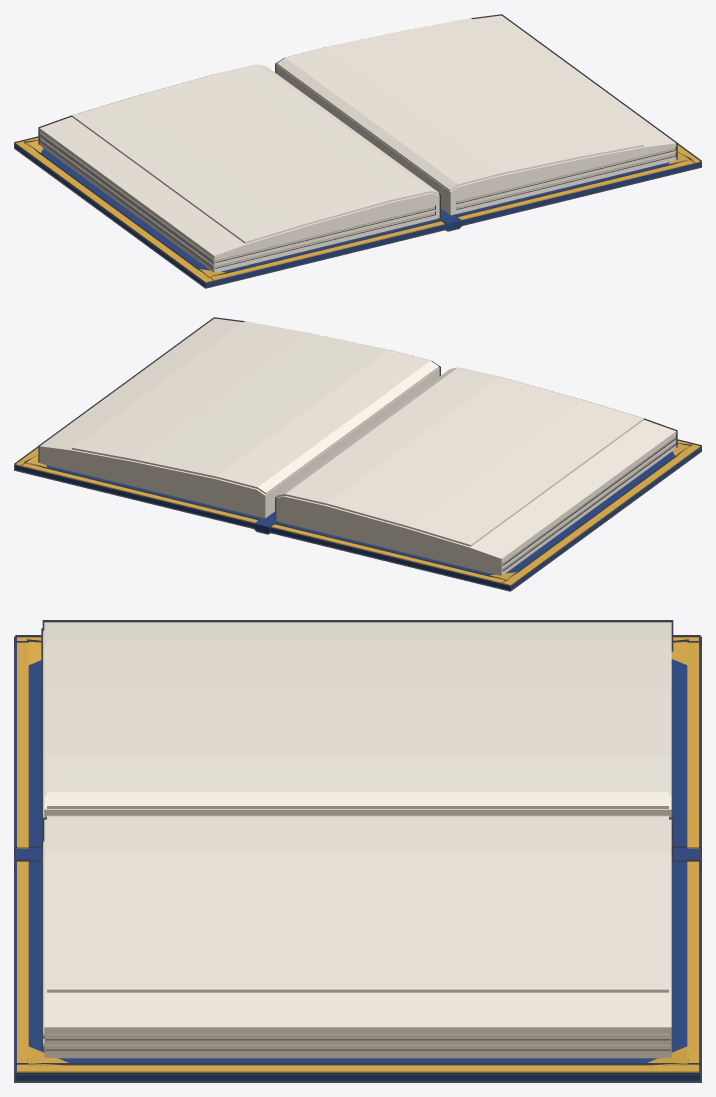
Rendered from popup_book.glb.
3 renders of one model, top to bottom at view 1: azimuth 30°, elevation 25°; view 2: azimuth 150°, elevation 25°; view 3: azimuth 270°, elevation 25°, orthographic. The views are drawn at different scales.
Parts seen in each view (by area): view 1: page_hinge_left, page_hinge_right, pages_left, pages_right, cover_left, ink_outline (×4), cover_right; view 2: page_hinge_left, page_hinge_right, pages_left, pages_right, cover_left, ink_outline (×4), cover_right; view 3: page_hinge_right, page_hinge_left, pages_right, cover_right, pages_left, ink_outline (×4), cover_left, spine.
Boxes of the visible parts, x1,y1,x2,y2 form: page_hinge_left: (72,64,438,243); page_hinge_right: (277,18,643,191); pages_left: (39,117,439,272); pages_right: (276,15,676,215); cover_left: (15,137,444,287); ink_outline (×4): (14,14,701,288); cover_right: (454,145,700,224); page_hinge_left: (277,367,643,546); page_hinge_right: (72,321,438,494); pages_left: (276,420,676,575); pages_right: (39,318,439,518); cover_left: (271,440,700,590); ink_outline (×4): (14,317,701,591); cover_right: (15,448,261,527); page_hinge_right: (47,815,668,992); page_hinge_left: (47,640,668,808); pages_right: (43,819,671,1058); cover_right: (15,861,700,1080); pages_left: (43,622,671,817); ink_outline (×4): (14,620,701,1082); cover_left: (15,637,700,848); spine: (15,848,700,862).
Size of the model in its own units: 0.3612 by 0.0255 by 0.2412.
